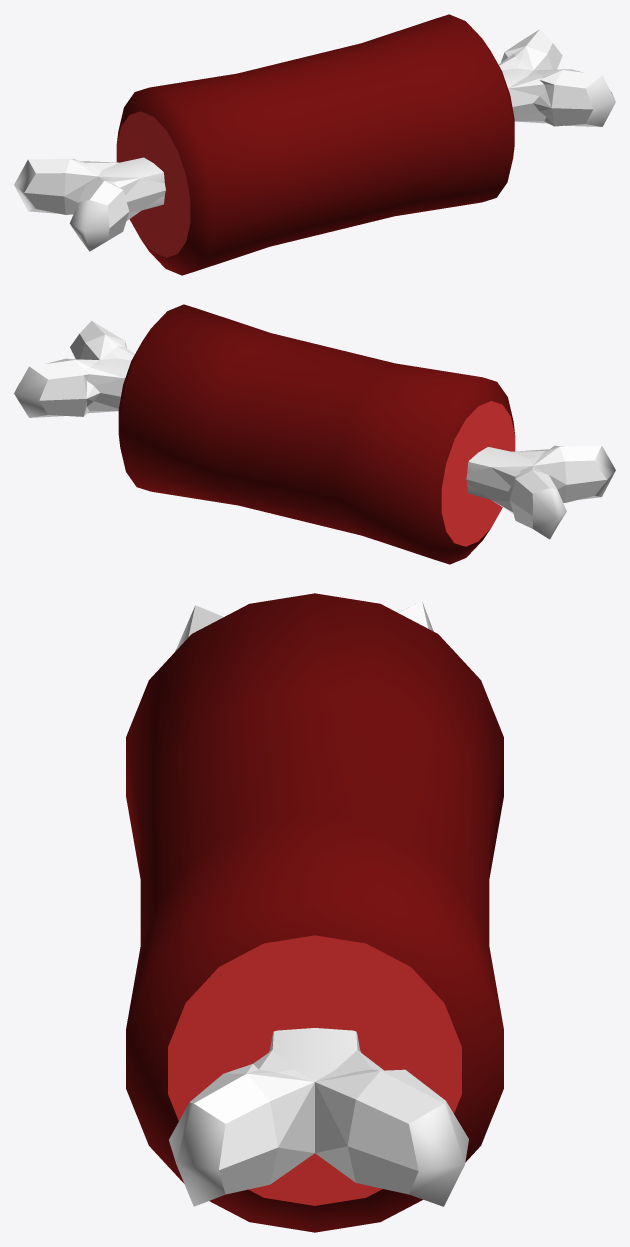
Rendered from CookedMeat.FBX.
3 views of the same model, one above another, from view 1: azimuth 30°, elevation 25°; view 2: azimuth 150°, elevation 25°; view 3: azimuth 270°, elevation 25° (orthographic). The views are drawn at different scales.
Parts seen in each view (by area): view 1: Cylinder001, Box001; view 2: Cylinder001, Box001; view 3: Cylinder001, Box001.
Part boxes in pixels (x1=…): Cylinder001: x1=116, y1=14, x2=514, y2=275; Box001: x1=14, y1=29, x2=615, y2=251; Cylinder001: x1=118, y1=304, x2=515, y2=564; Box001: x1=14, y1=320, x2=615, y2=539; Cylinder001: x1=126, y1=593, x2=503, y2=1232; Box001: x1=169, y1=601, x2=468, y2=1206.
Bounding box in the file's own units: 93.92 × 28.77 × 28.33.
